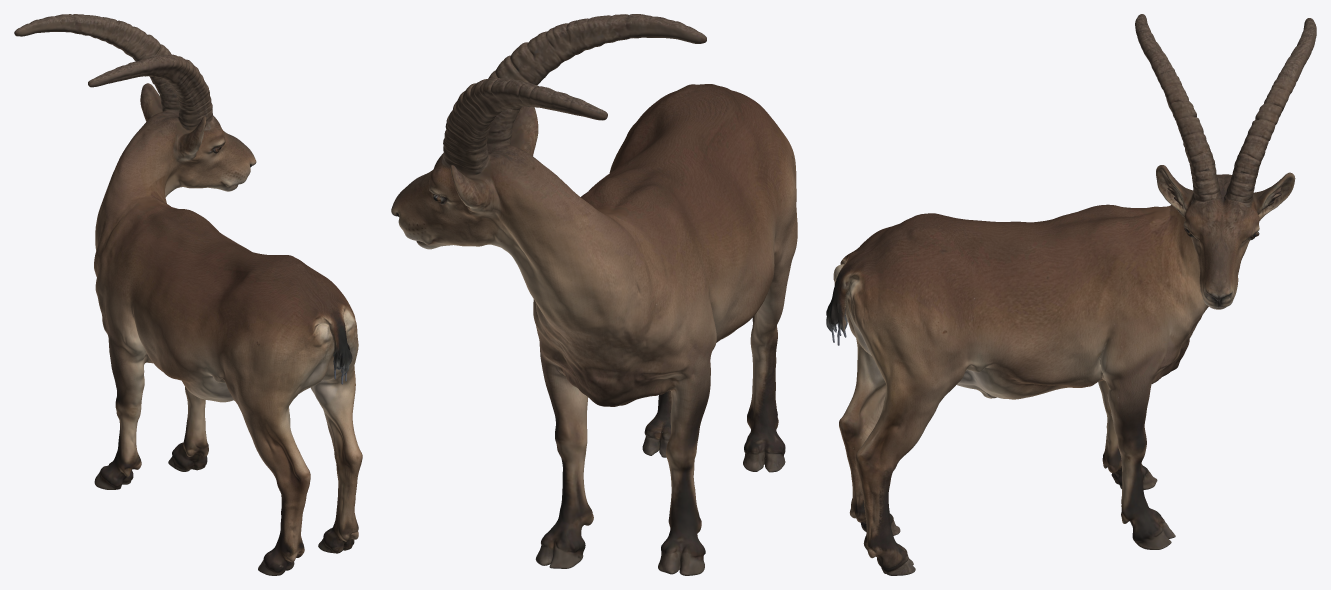
The model's file is chamois.glb.
3 views of the same model, side by side, from view 1: azimuth 30°, elevation 25°; view 2: azimuth 150°, elevation 25°; view 3: azimuth 270°, elevation 25° (orthographic). The views are drawn at different scales.
Visible parts, largest first — view 1: tripo_node_a7f98b8d-e945-4a63-8aa6-9a97858b90dc; view 2: tripo_node_a7f98b8d-e945-4a63-8aa6-9a97858b90dc; view 3: tripo_node_a7f98b8d-e945-4a63-8aa6-9a97858b90dc.
Part boxes in pixels (x1,y1,x2,y2): tripo_node_a7f98b8d-e945-4a63-8aa6-9a97858b90dc: [14, 14, 362, 575]; tripo_node_a7f98b8d-e945-4a63-8aa6-9a97858b90dc: [391, 14, 797, 575]; tripo_node_a7f98b8d-e945-4a63-8aa6-9a97858b90dc: [826, 14, 1316, 575].
Bounding box in the file's own units: 0.4856 × 1 × 0.9144.
1 material, 1 textured.
